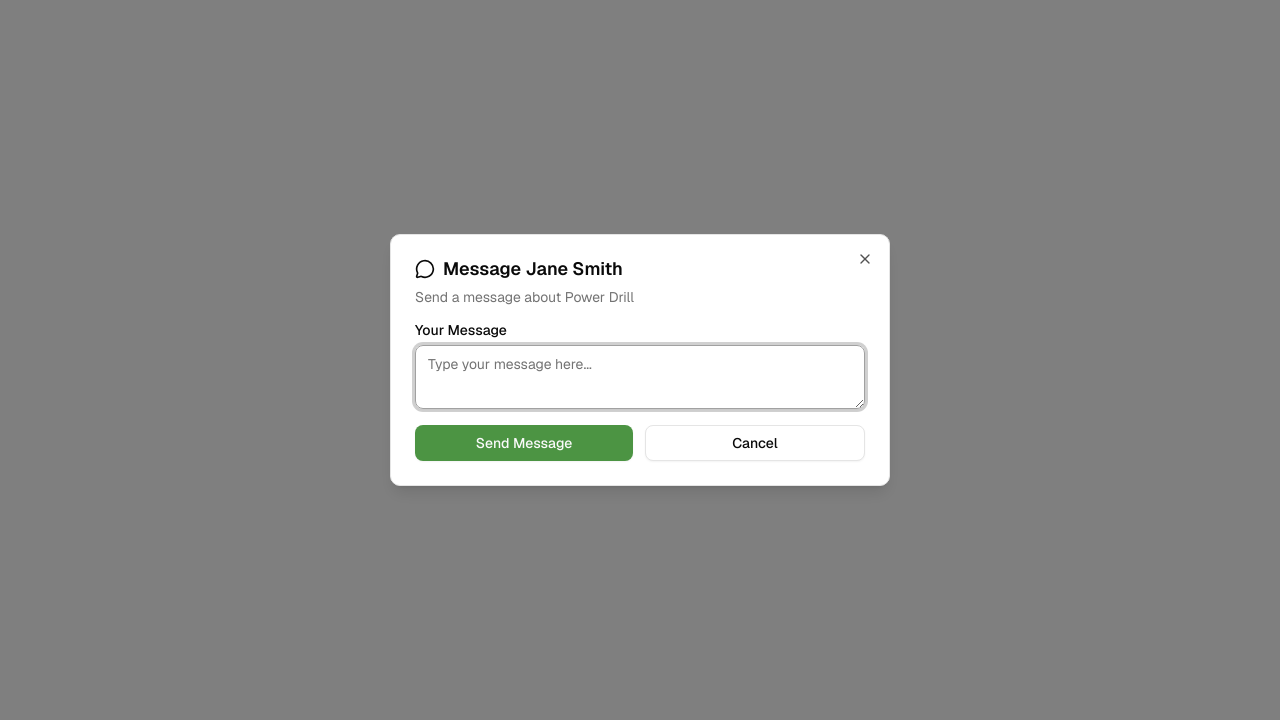
Scenario: MessageUserModal › should show validation error for message too short
Type "short" into the text box with placeholder "Type your message here...".
click(640, 377); type("short")  # box [415,345,865,409]
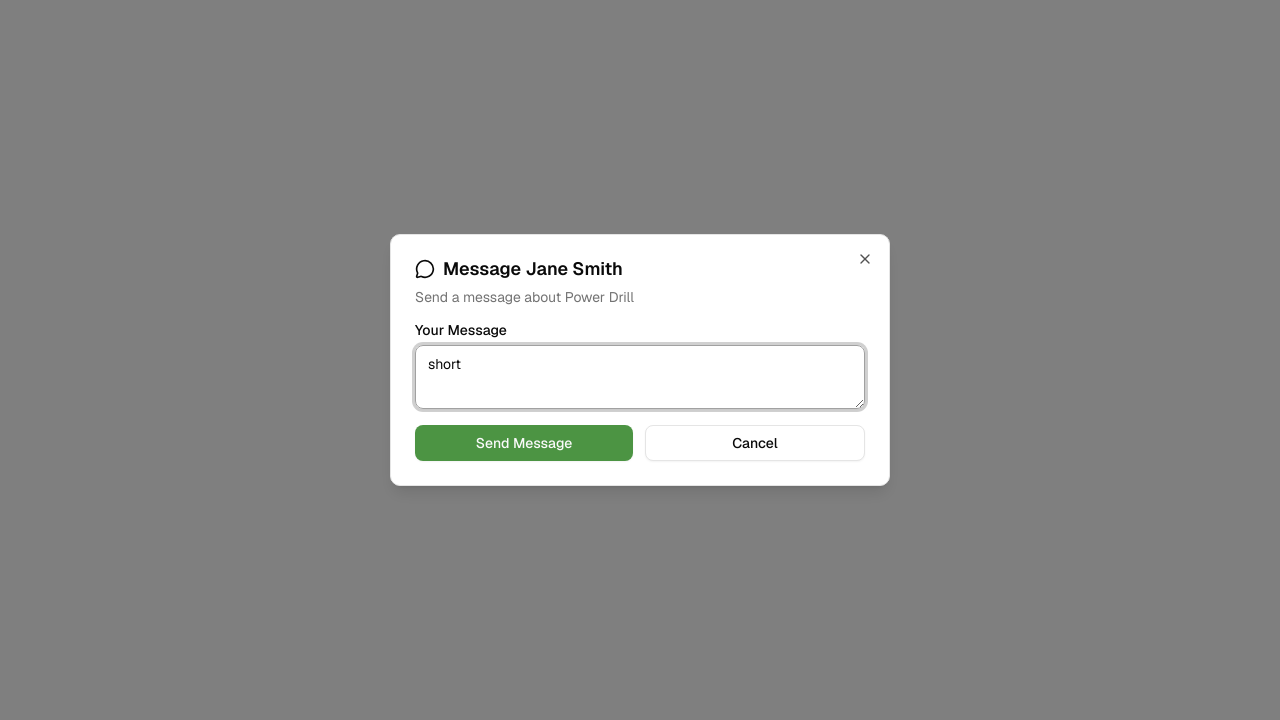
Click the button "Send Message".
click(524, 443)  # box [415,425,633,461]
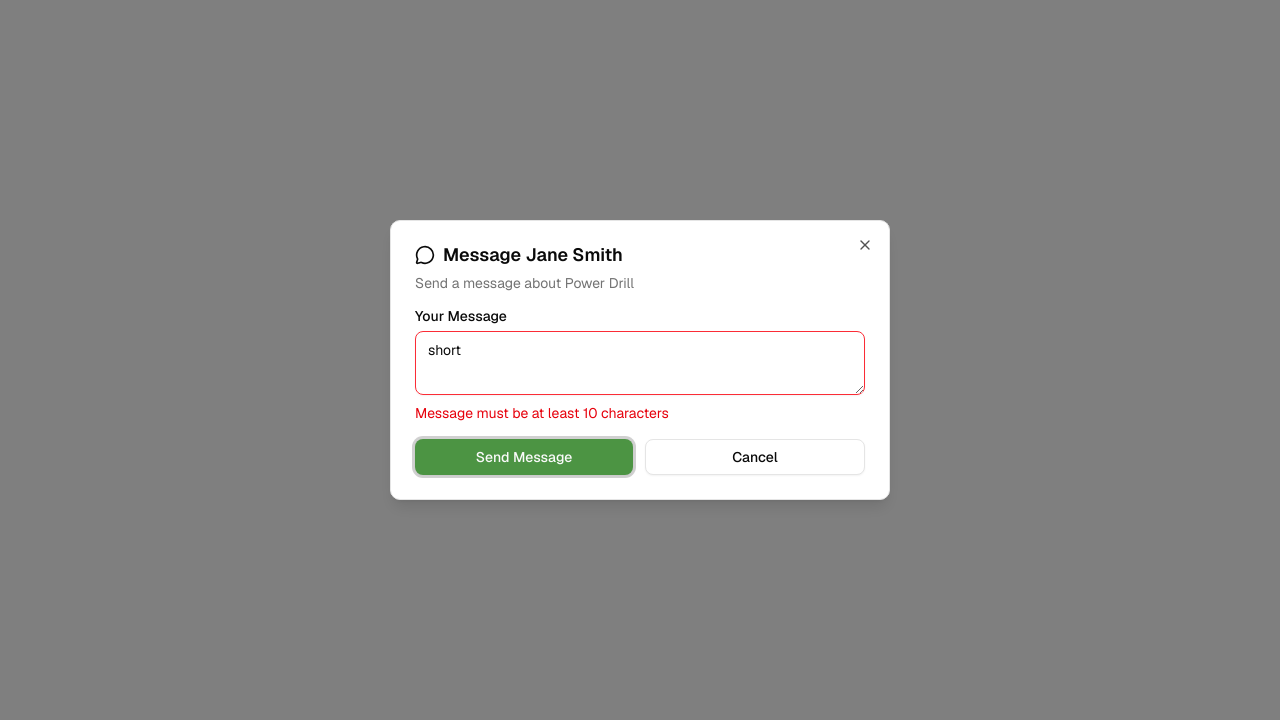
Result: the text "Message must be at least 10 characters" is shown at [415,404,669,422]
